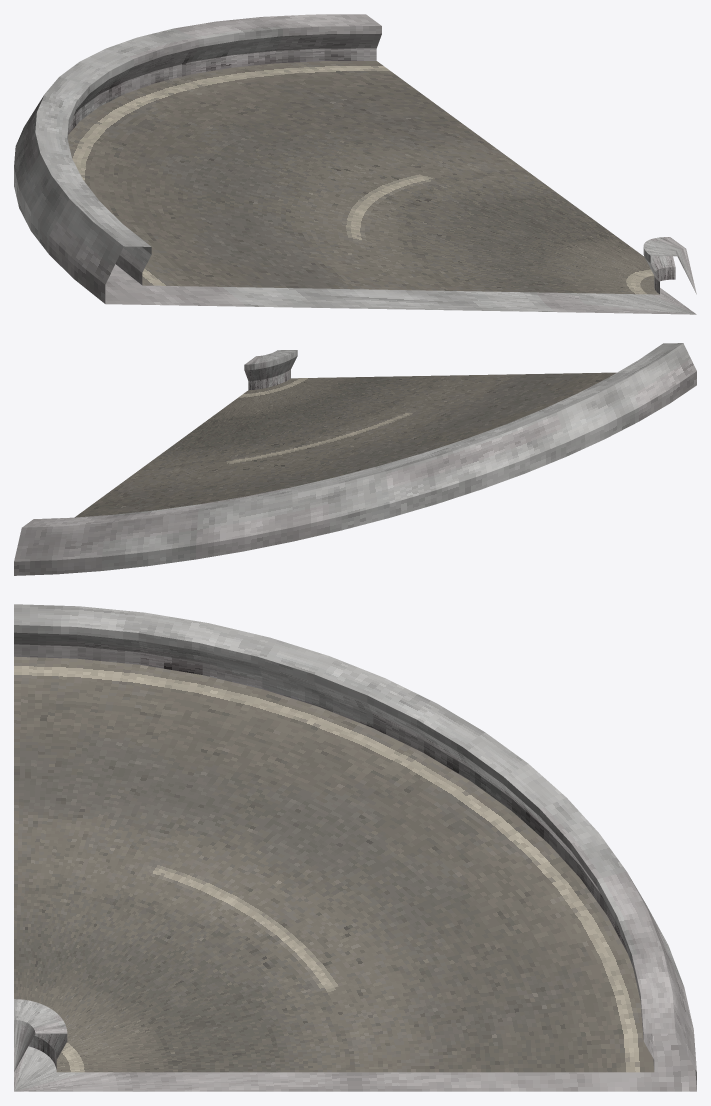
The model's file is turn-right1x1.glb.
The picture shows the model from 3 angles, top to bottom: view 1: azimuth 30°, elevation 25°; view 2: azimuth 150°, elevation 25°; view 3: azimuth 270°, elevation 25°; orthographic projection. The views are drawn at different scales.
Visible parts, largest first — view 1: road-Turn-HalfBankedRight-BiSlopeDown-Even-Right-Size1; view 2: road-Turn-HalfBankedRight-BiSlopeDown-Even-Right-Size1; view 3: road-Turn-HalfBankedRight-BiSlopeDown-Even-Right-Size1.
Part boxes in pixels (x1,y1,x2,y2): road-Turn-HalfBankedRight-BiSlopeDown-Even-Right-Size1: [14, 14, 696, 314]; road-Turn-HalfBankedRight-BiSlopeDown-Even-Right-Size1: [14, 343, 696, 575]; road-Turn-HalfBankedRight-BiSlopeDown-Even-Right-Size1: [14, 604, 696, 1091].
Size of the model in its own units: 1 by 0.3359 by 1.
Materials: 2 (2 with a texture image).
